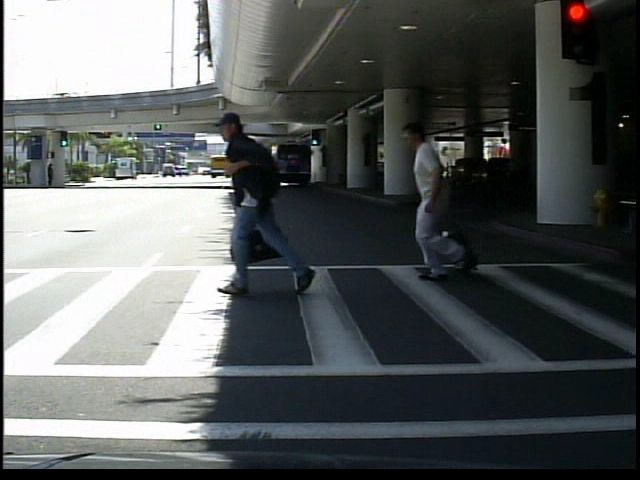person: (217, 116, 302, 300), (408, 112, 471, 281)
